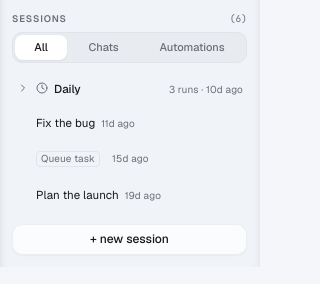
Test: SessionSidebar — filter and automation groups › Chats shows only conversations; Automations shows only automation sessions
This screenshot has width=320, height=284.
Click the tab with test id "session-filter-chats". click: (104, 48)
box: [69, 35, 138, 60]
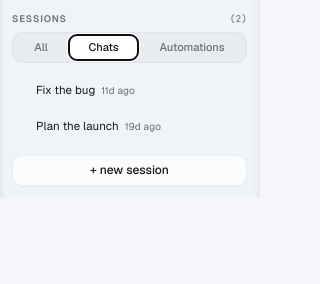
Expected: the element with test id "session-automation-group" is gone
Expected: the text with test id "session-active-count" shows "2", [236, 12, 241, 25]
Click the tab with test id "session-filter-automations". click: (192, 48)
box: [140, 35, 244, 60]
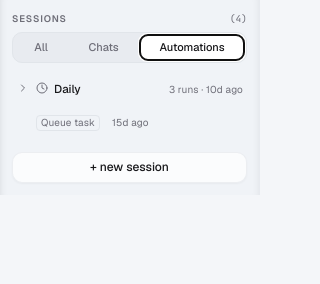
Expected: the button with test id "session-automation-group-toggle" shows "3 runs", [6, 73, 253, 104]
Expected: the text with test id "session-active-count" shows "4", [236, 12, 241, 25]
